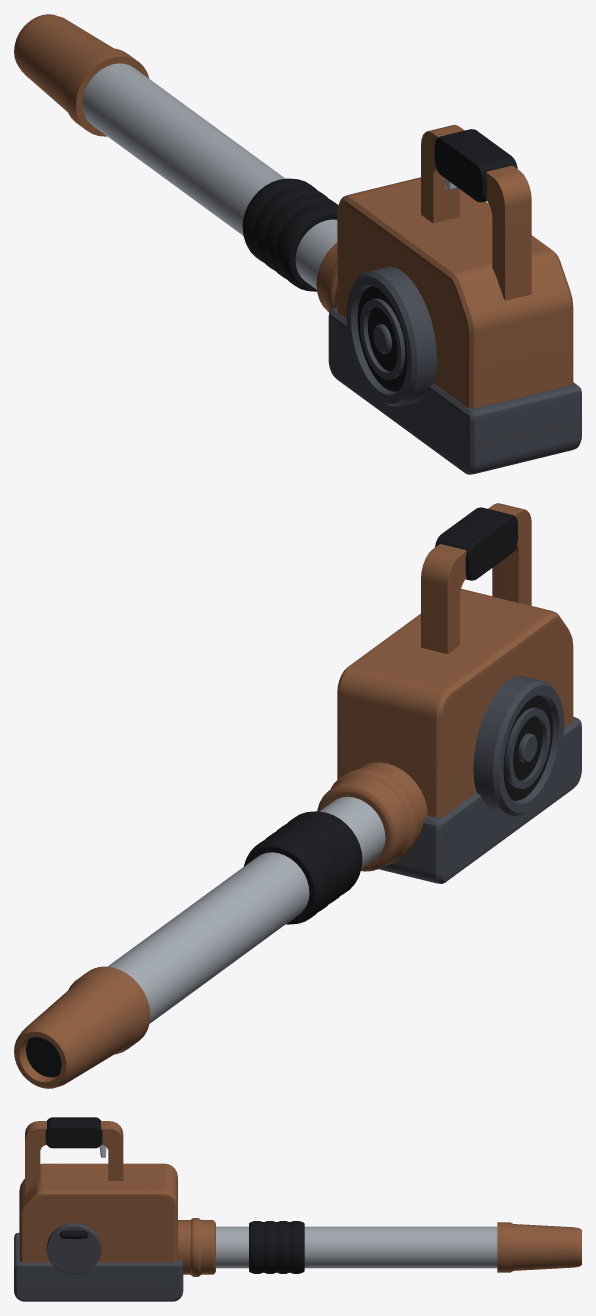
File: w_blower.glb
3 renders of one model, top to bottom at view 1: azimuth 30°, elevation 25°; view 2: azimuth 150°, elevation 25°; view 3: azimuth 270°, elevation 25°, orthographic. The views are drawn at different scales.
Visible parts, largest first — view 1: body_wzA, tube_wzB, body_wzB, fan_wzB, handle_wzA, nozzle_wzA, fore_wzB, handle_wzN, fan_wzN, outlet_wzA; view 2: body_wzA, tube_wzB, nozzle_wzA, fan_wzB, body_wzB, handle_wzA, fore_wzB, outlet_wzA, handle_wzN, fan_wzN, nozzle_wzN; view 3: body_wzA, tube_wzB, body_wzB, nozzle_wzA, fore_wzB, handle_wzA, starter_wzB, outlet_wzA, handle_wzN.
Boxes of the visible parts, x1,y1,x2,y2 form: body_wzA: (337,177,573,408); tube_wzB: (82,63,337,289); body_wzB: (328,307,581,474); fan_wzB: (346,266,437,406); handle_wzA: (421,125,531,300); nozzle_wzA: (14,14,149,136); fore_wzB: (242,178,338,291); handle_wzN: (434,129,517,202); fan_wzN: (357,286,406,391); outlet_wzA: (316,243,337,312); body_wzA: (337,589,573,817); tube_wzB: (108,796,385,1023); nozzle_wzA: (14,966,150,1088); fan_wzB: (473,675,564,815); body_wzB: (379,717,581,883); handle_wzA: (421,503,531,653); fore_wzB: (244,811,362,924); outlet_wzA: (317,762,427,871); handle_wzN: (435,507,517,580); fan_wzN: (503,695,552,800); nozzle_wzN: (26,1037,61,1077); body_wzA: (19,1163,177,1262); tube_wzB: (216,1226,497,1268); body_wzB: (14,1233,183,1301); nozzle_wzA: (497,1222,581,1272); fore_wzB: (249,1221,304,1273); handle_wzA: (25,1121,123,1195); starter_wzB: (46,1223,101,1274); outlet_wzA: (178,1218,215,1276); handle_wzN: (45,1117,102,1148).
Bounding box in the file's own units: 0.187 × 0.334 × 1.04.
